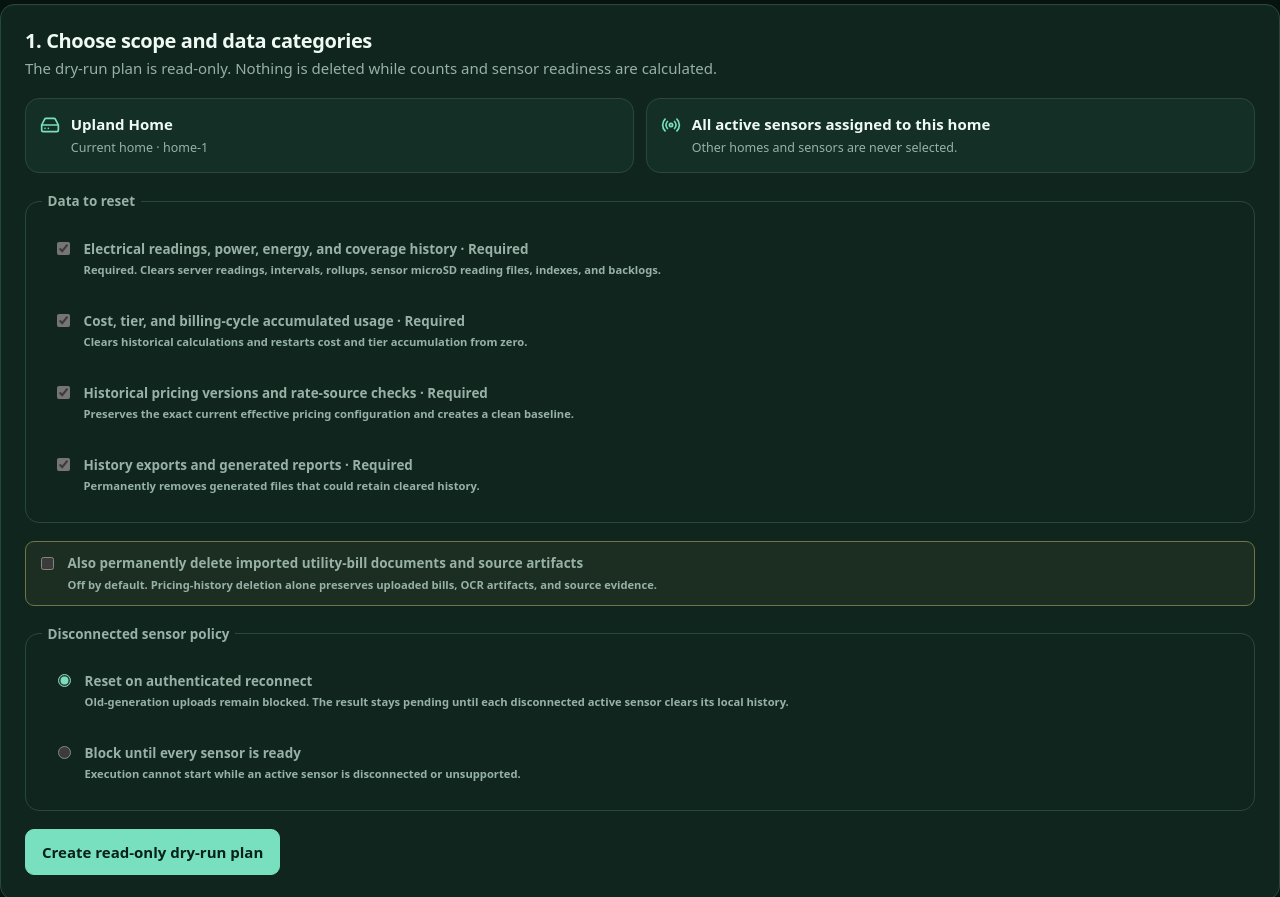
Test: coordinated data-only reset workflow › defaults to the full data-only scope, preserves imported bills, and renders exact sensor classifications
(page scrolled)
Expected: the checkbox labelled "Electrical readings" is checked, [57, 242, 70, 255]
Expected: the checkbox labelled "Electrical readings" is disabled, [57, 242, 70, 255]
Click the button "Create read-only dry-run plan" at (153, 852), box [25, 830, 280, 875]
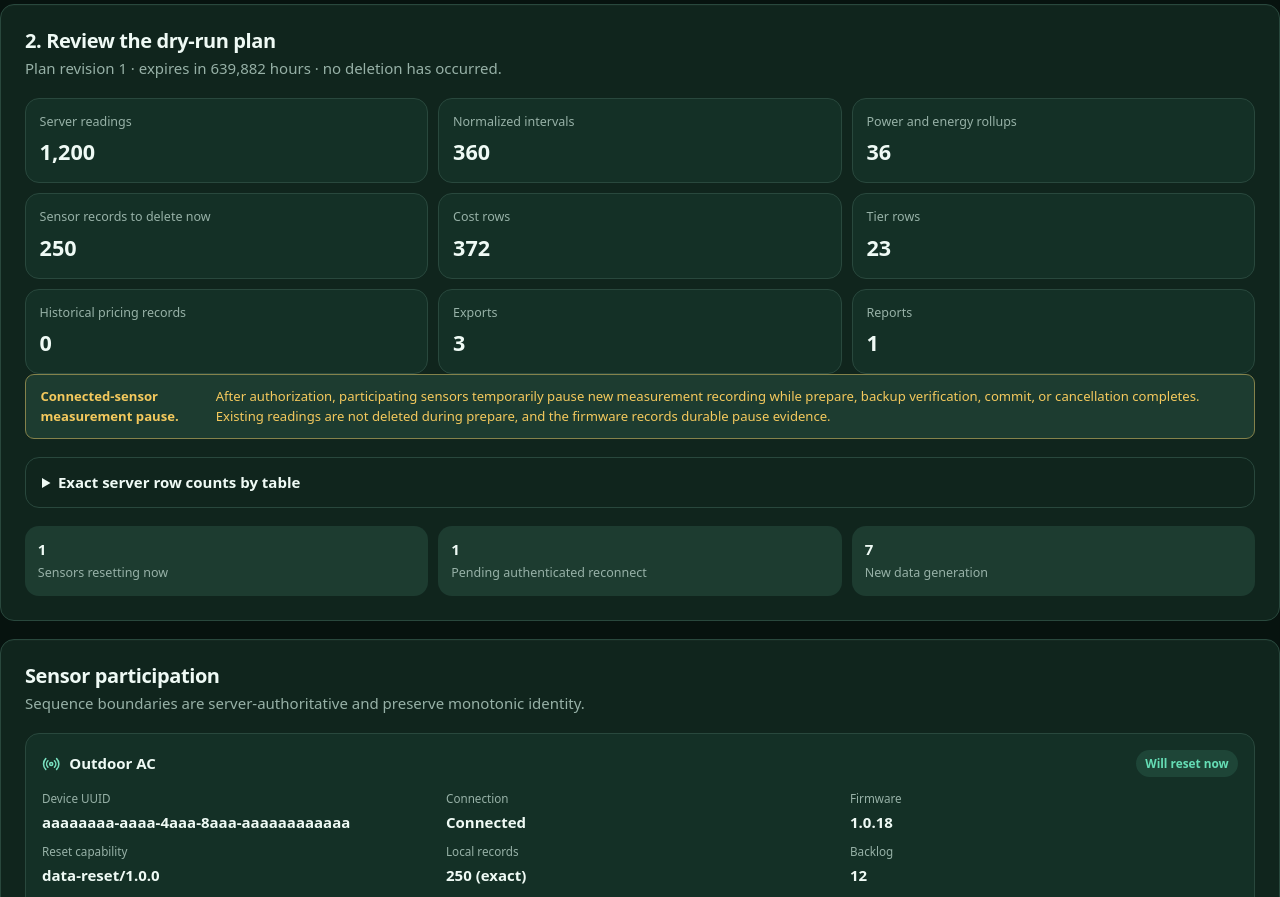
Expected: the heading "2. Review the dry-run plan" is shown, [25, 27, 276, 54]
Expected: the text "Outdoor AC" is shown, [69, 752, 156, 775]
Expected: the text "Will reset now" is shown, [1136, 750, 1238, 777]
